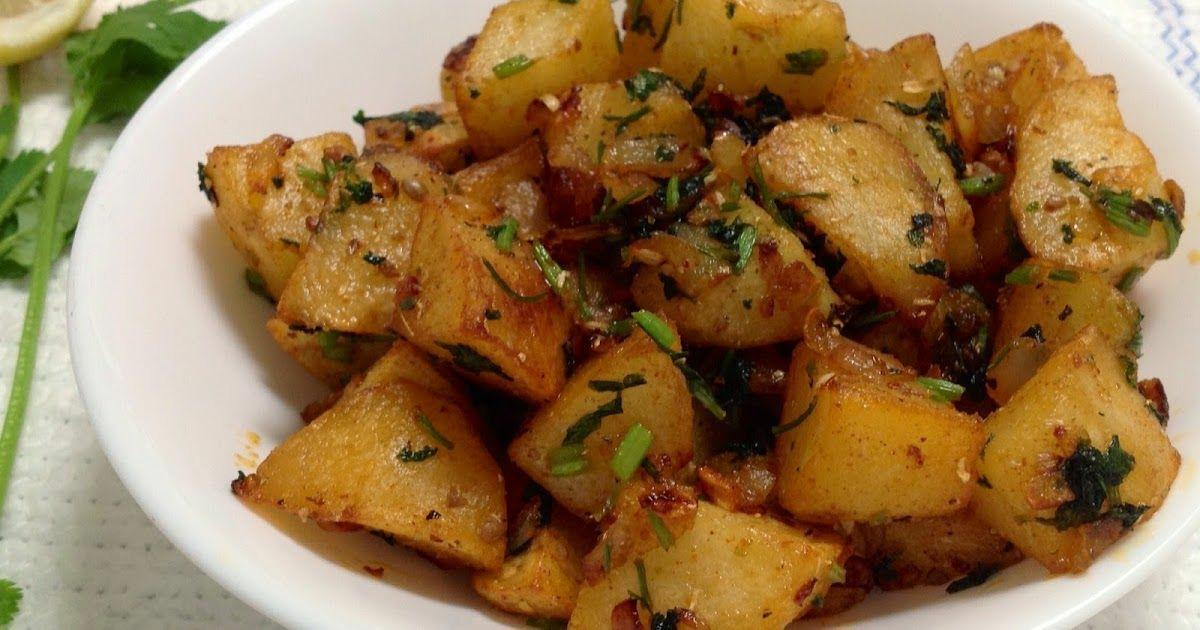AlooMasala: (196, 0, 1184, 630)
